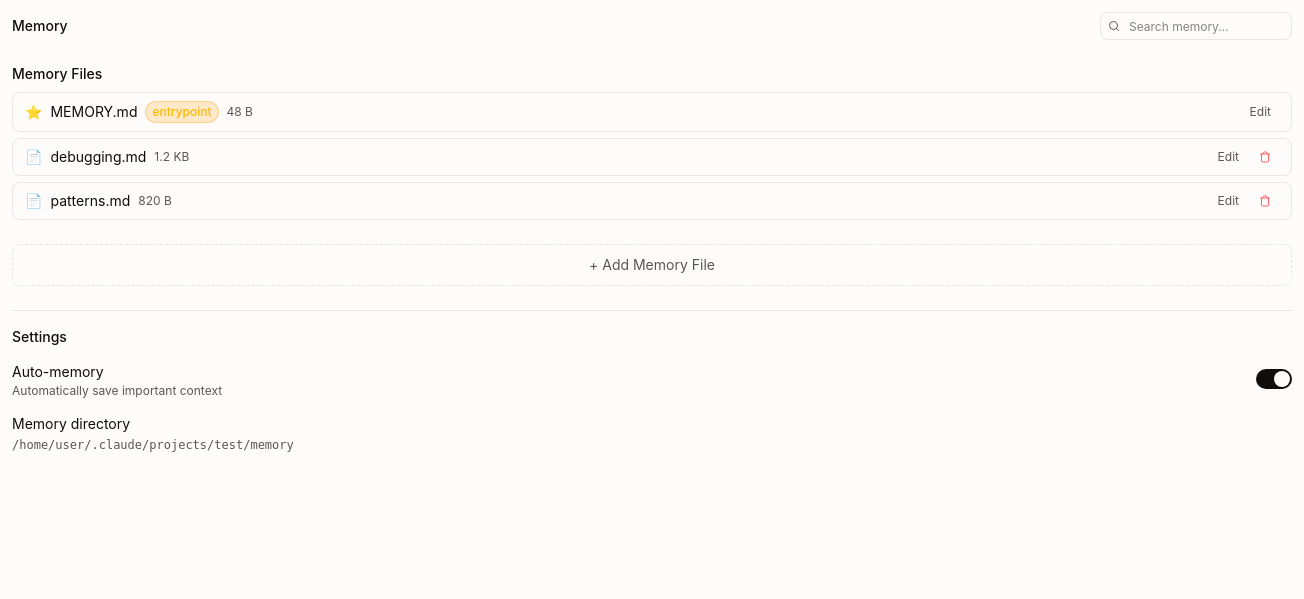
MemoryPanel › click file shows preview
Click the element with test id "memory-file-MEMORY.md" at (652, 112), box left=12, top=92, right=1292, bottom=132
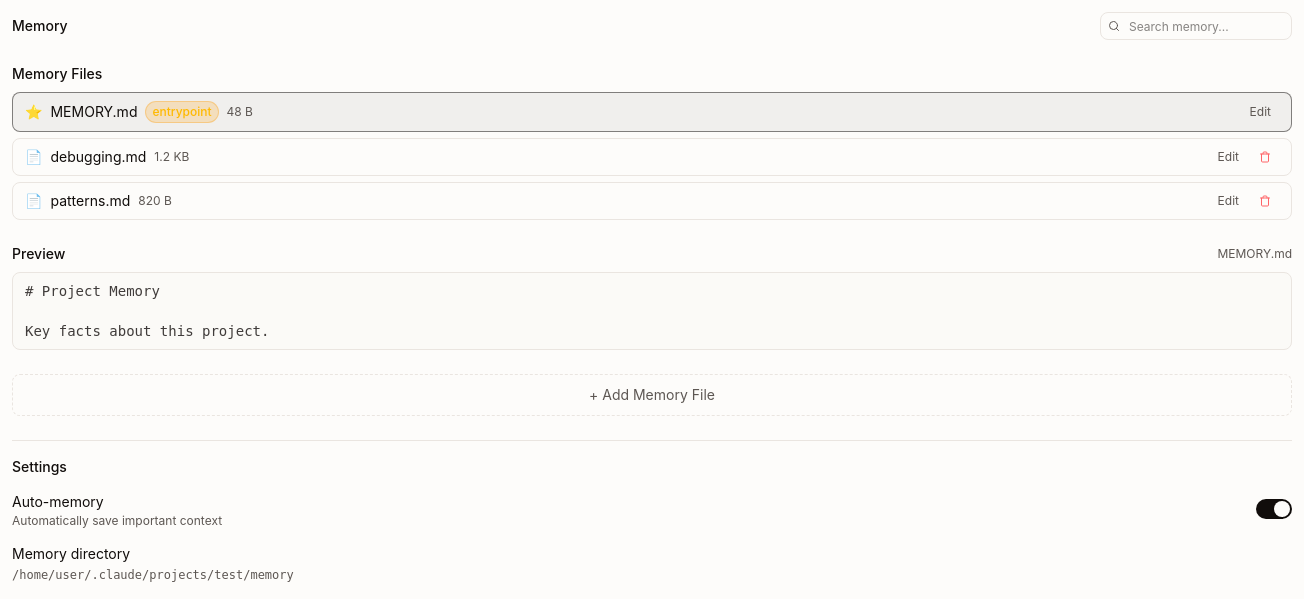
Now the element with test id "memory-preview" is shown, box left=12, top=244, right=1292, bottom=350
Now the element with test id "memory-preview" shows "# Project Memory", box left=25, top=283, right=269, bottom=339
